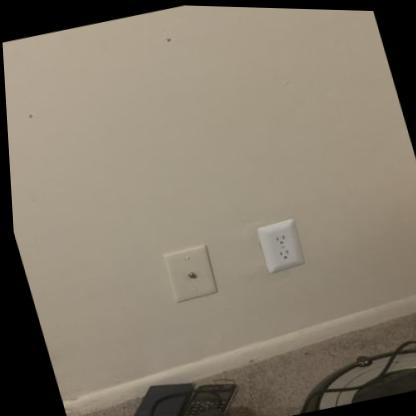OUTLET: (252, 215, 310, 275)
